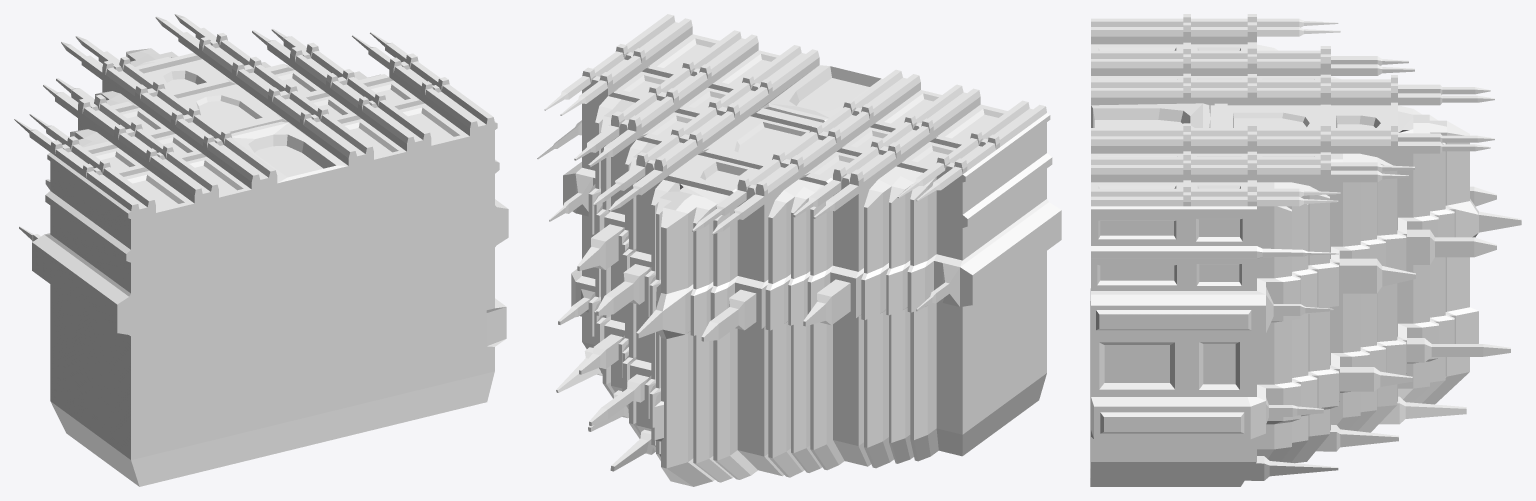
File: venice_building_19.fbx
The picture shows the model from 3 angles, left to right: view 1: azimuth 30°, elevation 25°; view 2: azimuth 150°, elevation 25°; view 3: azimuth 270°, elevation 25°; orthographic projection. The views are drawn at different scales.
Parts seen in each view (by area): view 1: Cube.362; view 2: Cube.362; view 3: Cube.362.
Part boxes in pixels (bbox=[...]): Cube.362: bbox=[14, 14, 508, 486]; Cube.362: bbox=[537, 14, 1061, 486]; Cube.362: bbox=[1090, 14, 1521, 486].
Bounding box in the file's own units: 5083 × 3542 × 4692.
